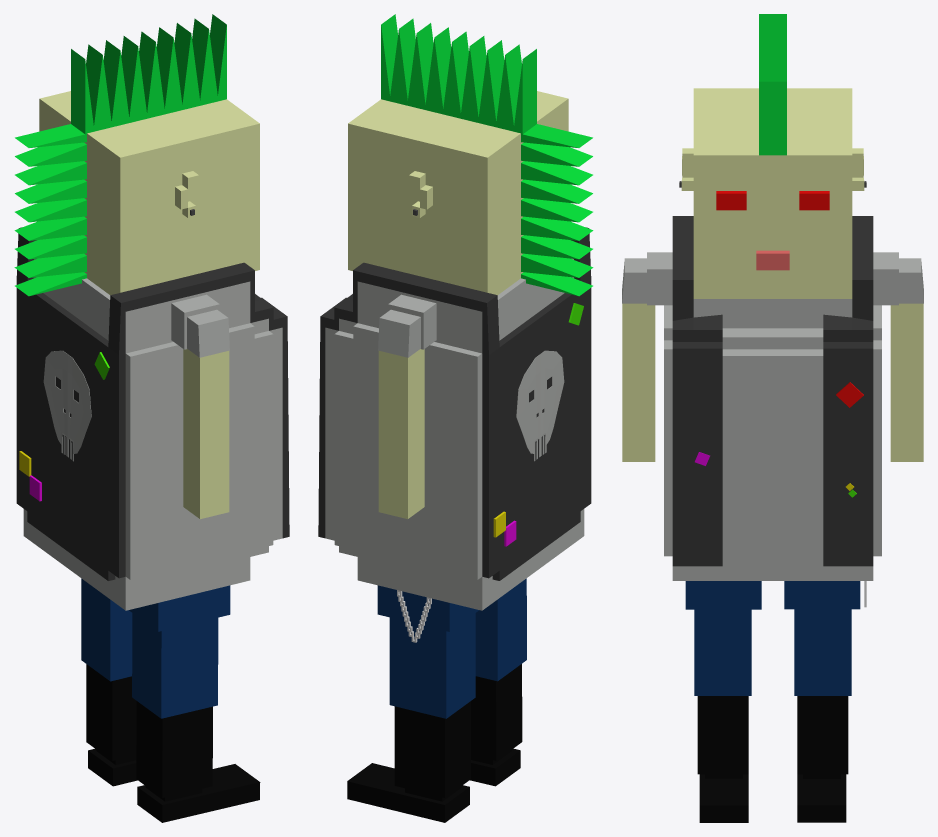
Rendered from Punk.fbx.
3 renders of one model, left to right at view 1: azimuth 30°, elevation 25°; view 2: azimuth 150°, elevation 25°; view 3: azimuth 270°, elevation 25°, orthographic.
Parts seen in each view (by area): view 1: Character, Character.001, head, Cube, Cube.010, Cube.001, Cube.007, Cube.004, Cube.005, Cube.008, RightLeg, Cube.009 (+2 smaller); view 2: Character, Character.001, head, Cube, Cube.003, Cube.004, Cube.005, Cube.001, Cube.007, Cube.006, LeftLeg, Cube.002 (+3 smaller); view 3: Character, head, Character.001, Cube.003, Cube.010, Cube.004, Cube.001, Cube.005, Cube.007, Cube, Cube.006, Cube.008 (+6 smaller).
Boxes of the visible parts, x1,y1,x2,y2 form: Character: (23,258,282,610); Character.001: (16,227,289,580); head: (39,91,259,295); Cube: (14,14,226,296); Cube.010: (183,349,229,519); Cube.001: (132,613,218,718); Cube.007: (136,701,212,797); Cube.004: (81,578,132,681); Cube.005: (86,664,136,760); Cube.008: (137,764,260,822); RightLeg: (129,585,230,631); Cube.009: (187,309,229,357); Character: (325,258,584,610); Character.001: (318,227,591,580); head: (348,91,568,295); Cube: (381,14,593,296); Cube.003: (378,349,424,519); Cube.004: (389,613,475,718); Cube.005: (394,701,470,797); Cube.001: (475,578,526,681); Cube.007: (471,664,522,760); Cube.006: (347,763,469,822); LeftLeg: (377,585,479,631); Cube.002: (378,309,420,357); Character: (664,299,881,580); head: (679,88,866,298); Character.001: (672,216,873,566); Cube.003: (890,303,923,461); Cube.010: (622,303,655,461); Cube.004: (794,609,851,695); Cube.001: (694,609,751,695); Cube.005: (797,696,848,774); Cube.007: (697,696,748,774); Cube: (759,14,786,155); Cube.006: (797,774,846,822); Cube.008: (699,774,748,822).
Bounding box in the file's own units: 248 × 813 × 301.
